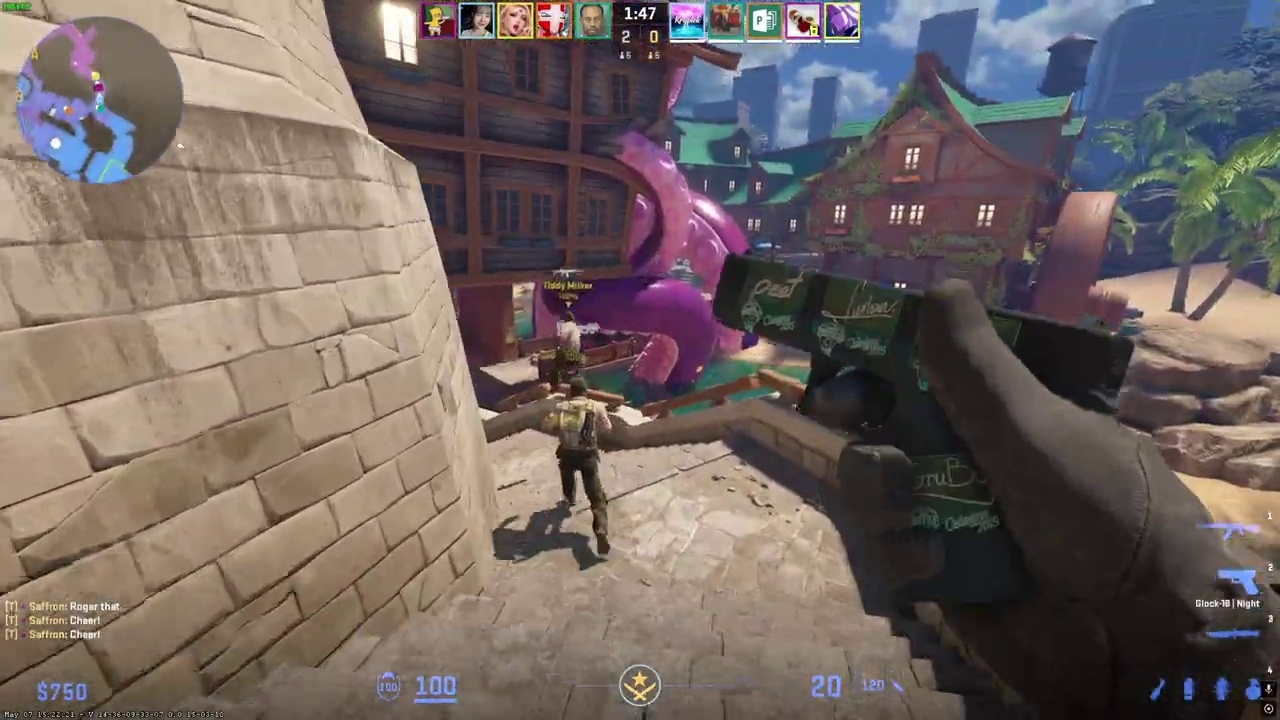Terrorist: (541, 377, 612, 555), (547, 311, 591, 395)
